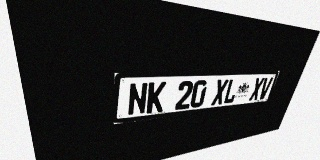0: (189, 80, 208, 108)
2: (175, 80, 194, 110)
K: (146, 82, 166, 114)
L: (223, 79, 240, 104)
N: (127, 82, 148, 116)
V: (257, 77, 273, 100)
X: (211, 79, 229, 106), (249, 78, 265, 101)
